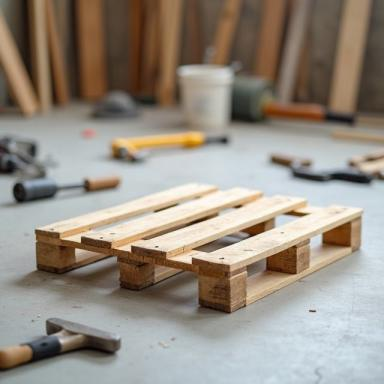pallet: (35, 182, 365, 313)
